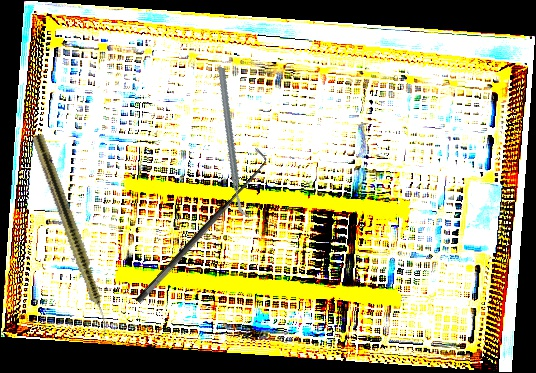Chopper: (180, 66, 287, 218)
Handpiece: (28, 132, 118, 342)
Hook Surgical: (124, 146, 275, 306)
